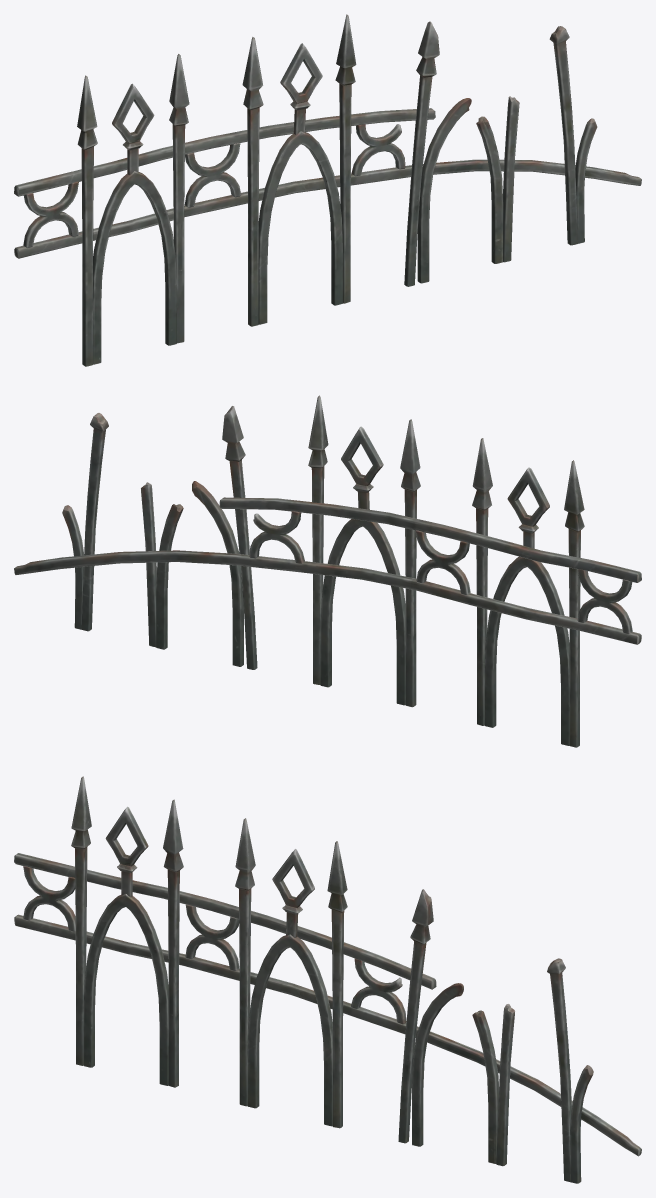
The picture shows the model from 3 angles, top to bottom: view 1: azimuth 30°, elevation 25°; view 2: azimuth 150°, elevation 25°; view 3: azimuth 330°, elevation 25°; orthographic projection.
Visible parts, largest first — view 1: SM_Iron_Fence_01v1_LOD0; view 2: SM_Iron_Fence_01v1_LOD0; view 3: SM_Iron_Fence_01v1_LOD0.
Part boxes in pixels (left/top/right/bottom): SM_Iron_Fence_01v1_LOD0: left=14, top=14, right=641, bottom=366; SM_Iron_Fence_01v1_LOD0: left=14, top=395, right=641, bottom=747; SM_Iron_Fence_01v1_LOD0: left=14, top=776, right=641, bottom=1183.
Bounding box in the file's own units: 3.85 × 1.69 × 0.1363.
1 material, 1 textured.
